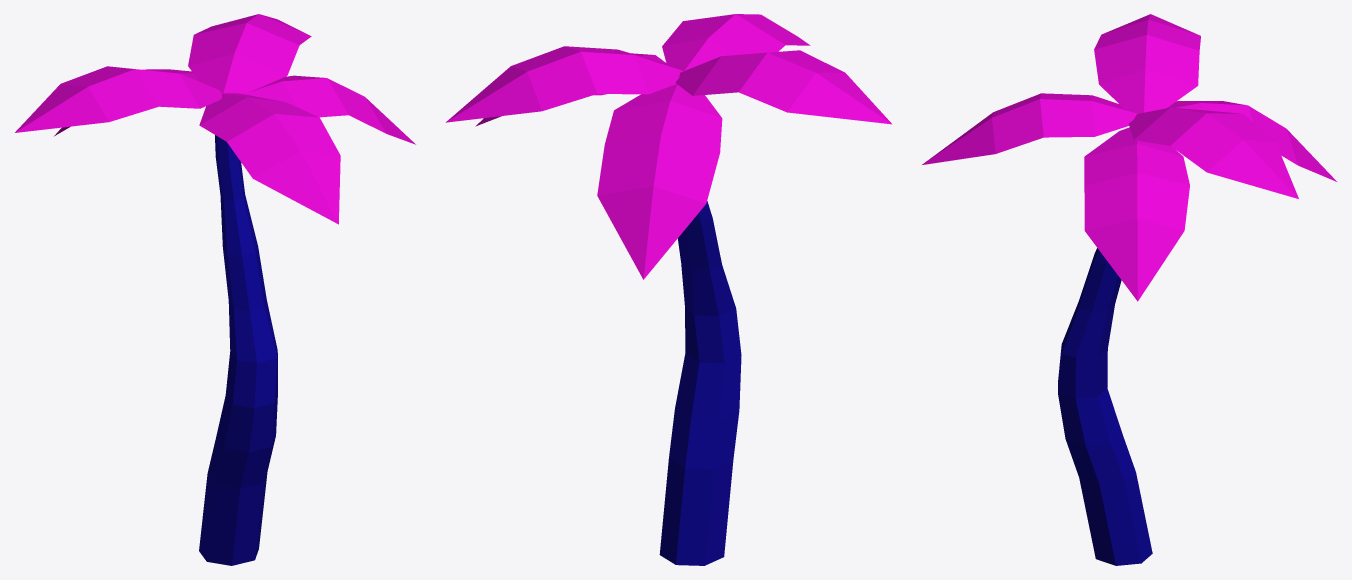
Rendered from palm tree solid.fbx.
3 views of the same model, side by side, from view 1: azimuth 30°, elevation 25°; view 2: azimuth 150°, elevation 25°; view 3: azimuth 270°, elevation 25° (orthographic). The views are drawn at different scales.
Parts seen in each view (by area): view 1: Plane.004; view 2: Plane.004; view 3: Plane.004.
Part boxes in pixels (<box>): Plane.004: <box>15,14,415,565</box>; Plane.004: <box>446,14,891,565</box>; Plane.004: <box>922,14,1336,565</box>.
Bounding box in the file's own units: 1480 × 1769 × 1391.
